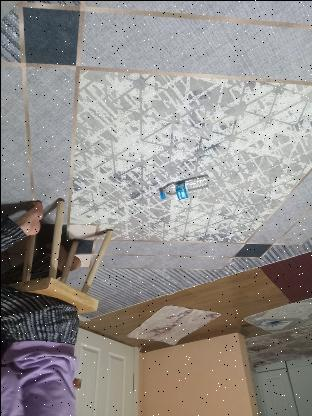Plastic Bottle: (152, 175, 218, 203)
